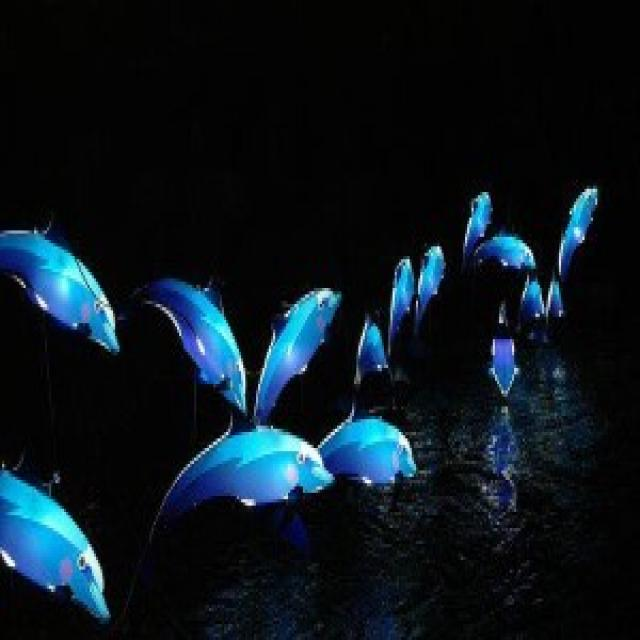Dolphin: (138, 422, 334, 604), (0, 436, 117, 632), (0, 210, 124, 369), (132, 257, 249, 415), (257, 285, 346, 412), (322, 412, 423, 498), (472, 234, 539, 268)
